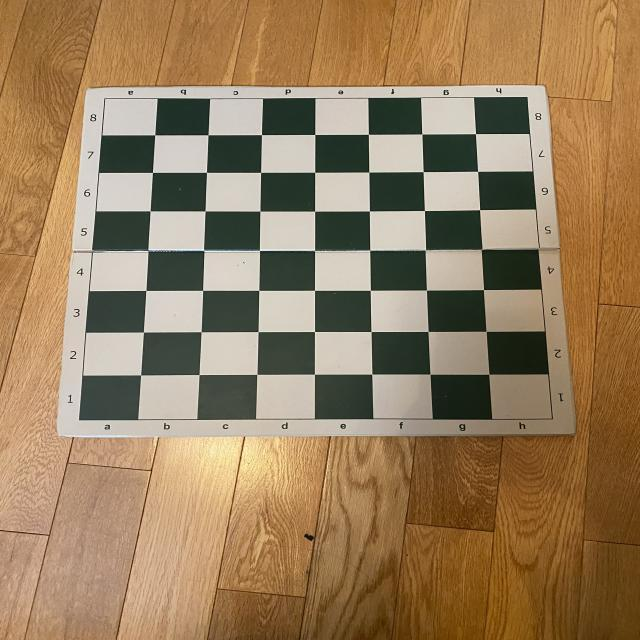chess-table-corners: (548, 414, 560, 422), (101, 94, 110, 102), (522, 95, 532, 101), (76, 417, 83, 423)
